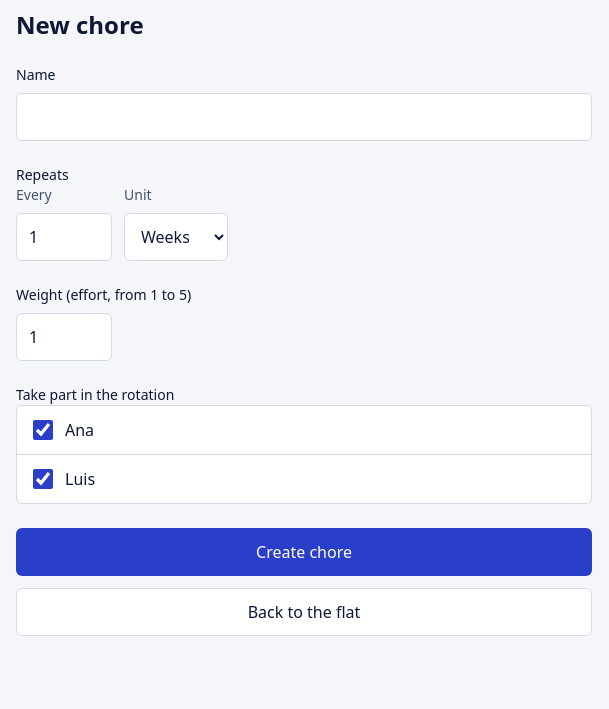
Scenario: chore editor › does not send anything while required fields are empty
The image size is (609, 709).
Click the button "Create chore": click(304, 552) 16,528 -> 592,576
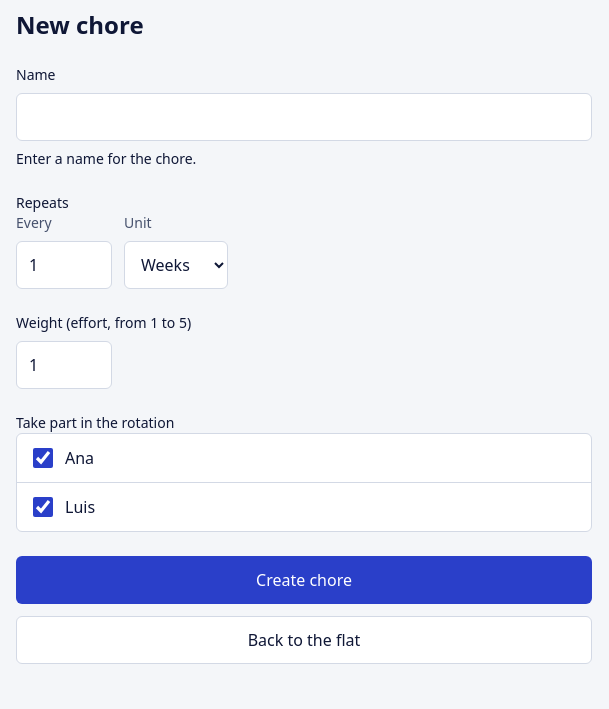
Replace the text in the number field labelled "Weight (effort, from 1 to 5)" with "9": (64, 365) 16,341 -> 112,389
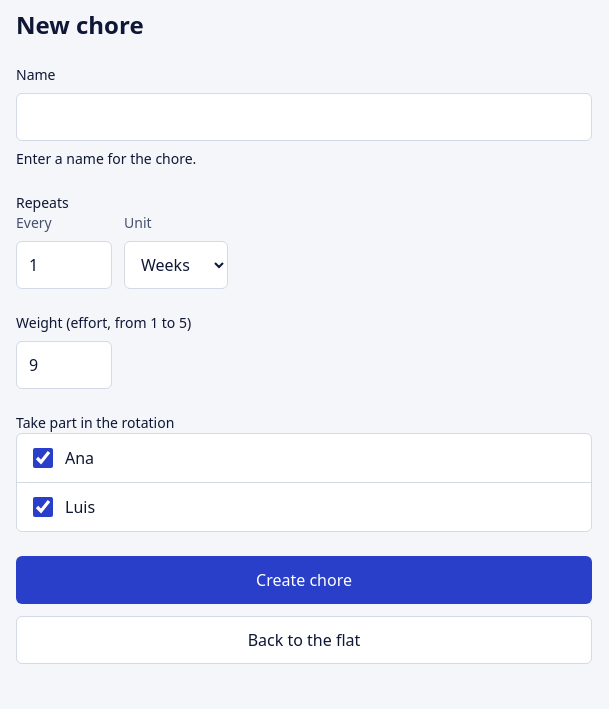
Click the button "Create chore": click(304, 580) 16,556 -> 592,604
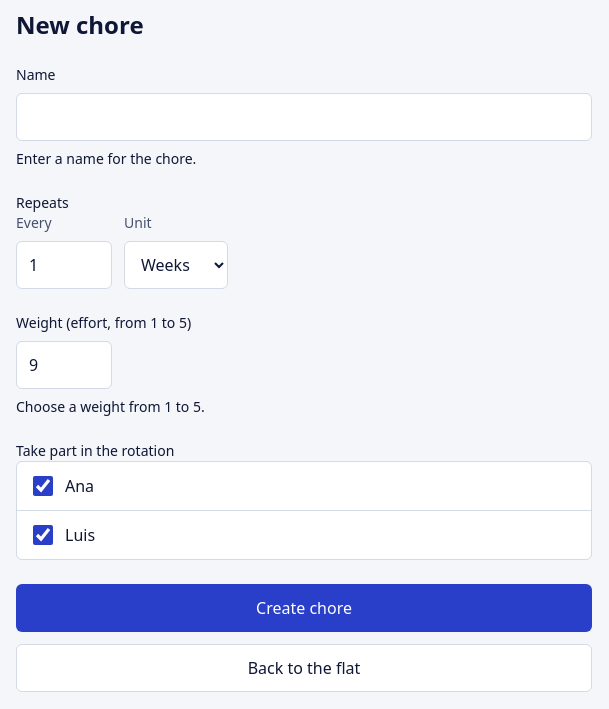
Check: the text "Enter a name for the chore." is shown, box 16,149 -> 196,168
Check: the text "Choose a weight from 1 to 5." is shown, box 16,397 -> 205,416
